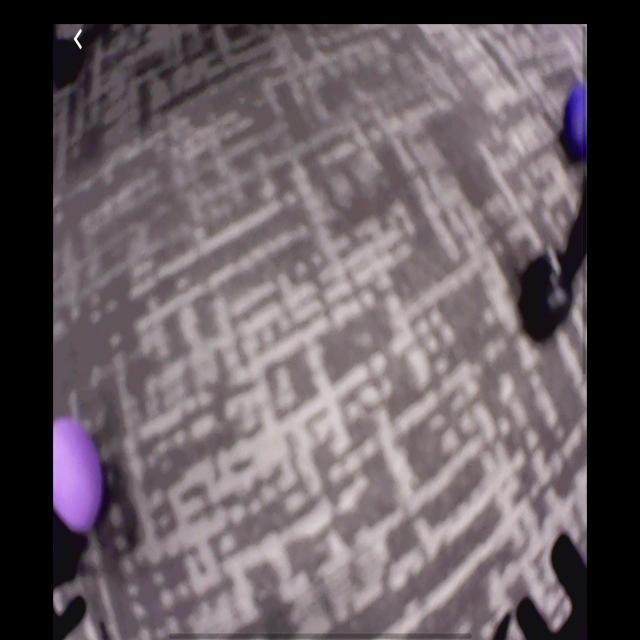ball: (55, 418, 103, 532), (562, 84, 588, 164)
